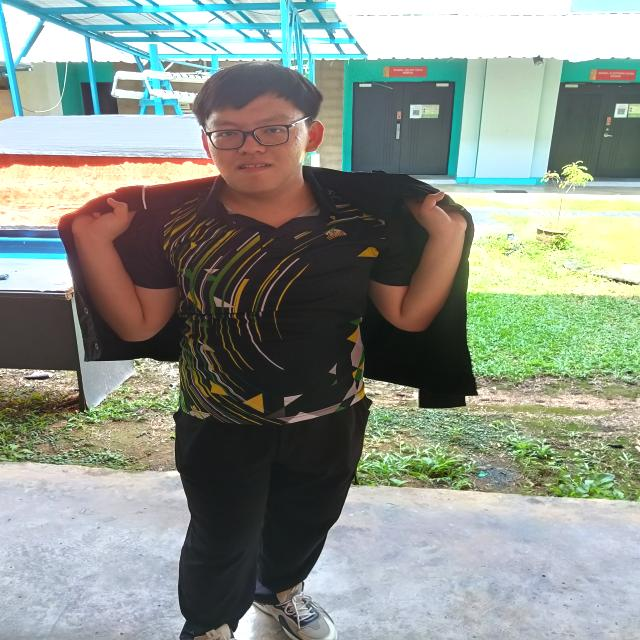person_without_labcoat: (59, 62, 476, 640)
